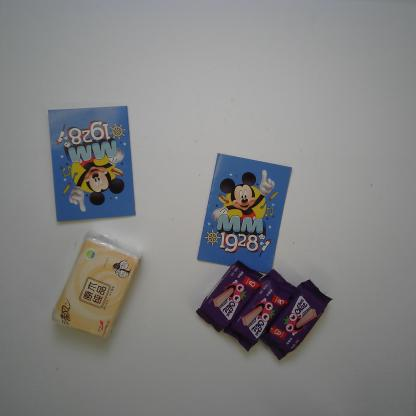Dessert: (224, 268, 298, 357), (260, 277, 334, 361), (195, 259, 266, 336)
Stationery: (196, 152, 294, 276), (46, 104, 138, 224)
Tissue: (50, 232, 144, 344)
